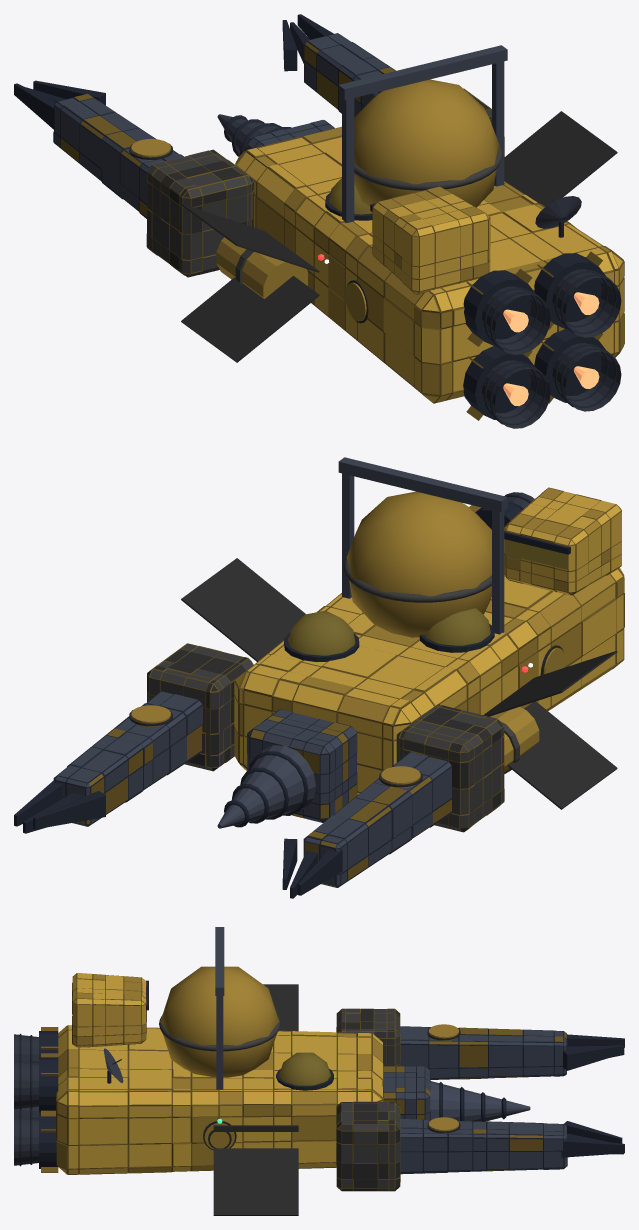
The model's file is starminer.glb.
3 views of the same model, one above another, from view 1: azimuth 30°, elevation 25°; view 2: azimuth 150°, elevation 25°; view 3: azimuth 270°, elevation 25° (orthographic). The views are drawn at different scales.
Parts seen in each view (by area): view 1: starminer_mesh, radar_mesh; view 2: starminer_mesh; view 3: starminer_mesh.
Boxes of the visible parts, x1=… form: starminer_mesh: x1=14, y1=14, x2=624, y2=428; radar_mesh: x1=535, y1=196, x2=581, y2=237; starminer_mesh: x1=14, y1=457, x2=624, y2=898; starminer_mesh: x1=14, y1=927, x2=624, y2=1215.
Size of the model in its own units: 25.52 by 16.43 by 46.45.
